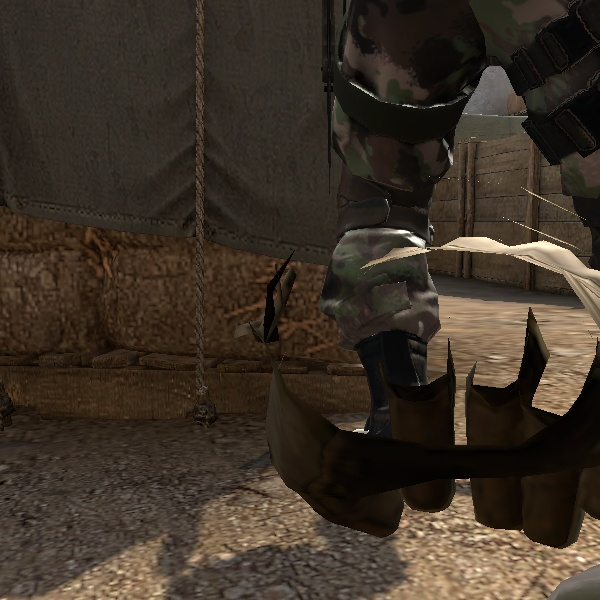ct_head: (293, 0, 579, 184)
